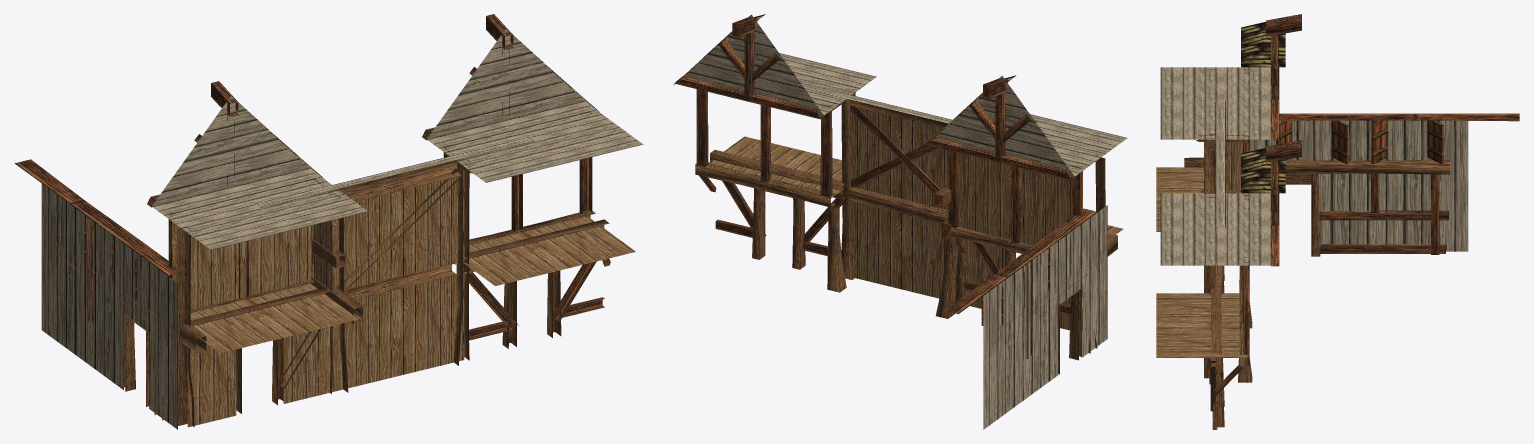
Rendered from LAKETOWN_EXTERIOR_PS_LT_ENTRANCE84847__GX.fbx.
3 renders of one model, left to right at view 1: azimuth 30°, elevation 25°; view 2: azimuth 150°, elevation 25°; view 3: azimuth 270°, elevation 25°, orthographic. The views are drawn at different scales.
Visible parts, largest first — view 1: LAKETOWN_EXTERIOR_PS_LT_ENTRANCE84847__GX; view 2: LAKETOWN_EXTERIOR_PS_LT_ENTRANCE84847__GX; view 3: LAKETOWN_EXTERIOR_PS_LT_ENTRANCE84847__GX.
Boxes of the visible parts, left/top/right/bottom form: LAKETOWN_EXTERIOR_PS_LT_ENTRANCE84847__GX: left=15, top=14, right=643, bottom=429; LAKETOWN_EXTERIOR_PS_LT_ENTRANCE84847__GX: left=673, top=14, right=1127, bottom=429; LAKETOWN_EXTERIOR_PS_LT_ENTRANCE84847__GX: left=1156, top=14, right=1519, bottom=429.
Size of the model in its own units: 139906 by 88493 by 106147.
Materials: 8 (8 with a texture image).
